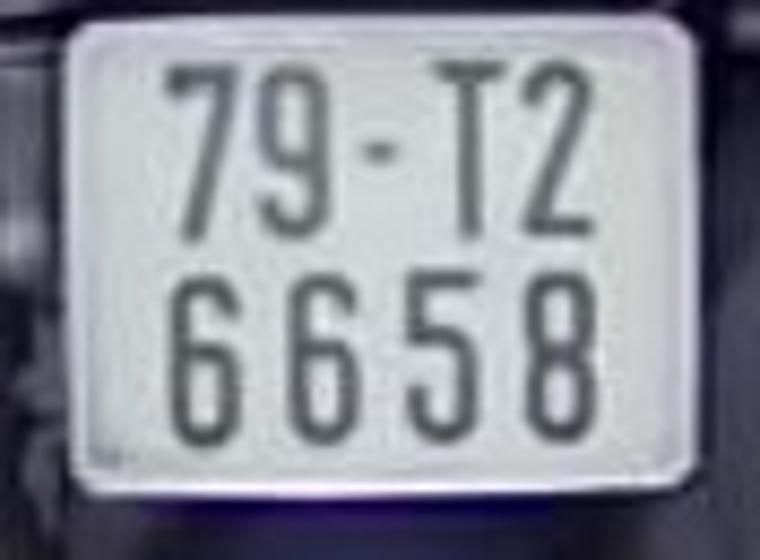-: (360, 138, 401, 171)
2: (517, 57, 606, 246)
5: (400, 262, 495, 449)
6: (164, 270, 253, 451), (284, 269, 364, 447)
7: (161, 56, 240, 251)
8: (521, 268, 602, 450)
9: (248, 57, 337, 247)
T: (432, 58, 513, 242)
